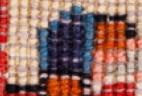Knot: (94, 13, 106, 21), (5, 76, 16, 84), (8, 85, 18, 93), (23, 85, 35, 91), (39, 72, 48, 79), (80, 78, 89, 85), (115, 75, 124, 82), (60, 45, 69, 52), (81, 88, 91, 94), (125, 75, 133, 82), (70, 73, 79, 79), (17, 58, 26, 64), (48, 64, 57, 70), (125, 31, 133, 37), (71, 67, 79, 73), (71, 19, 79, 25), (71, 57, 78, 63), (60, 61, 67, 67), (36, 90, 45, 94), (61, 75, 69, 79), (17, 66, 25, 70), (26, 91, 35, 94), (17, 91, 26, 94), (102, 91, 110, 94)
